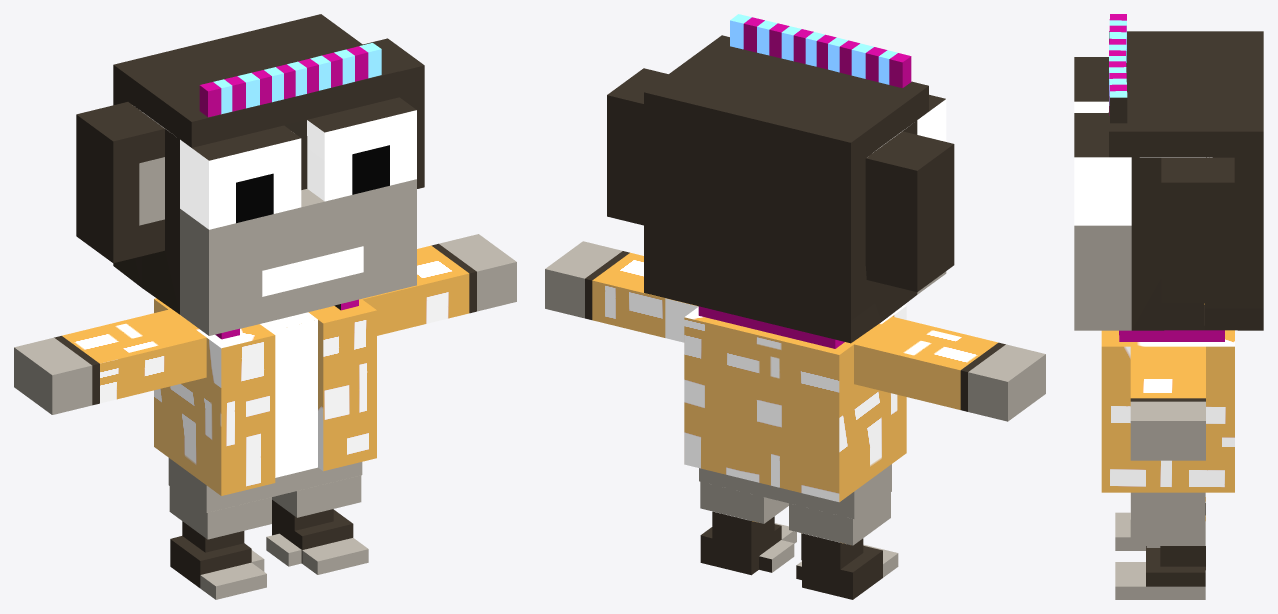
Rendered from myape.glb.
The picture shows the model from 3 angles, left to right: view 1: azimuth 30°, elevation 25°; view 2: azimuth 150°, elevation 25°; view 3: azimuth 270°, elevation 25°; orthographic projection.
Visible parts, largest first — view 1: myape; view 2: myape; view 3: myape.
Part boxes in pixels (x1,y1,x2,y2): myape: (14,14,516,599); myape: (545,14,1045,599); myape: (1074,14,1263,599).
Size of what is drawn, in the model's own units: 3.59 by 3.79 by 1.28.
7 materials, 4 textured.
